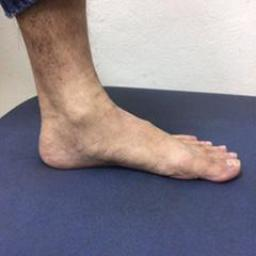Medial View -Left Foot-: (26, 77, 250, 194)
